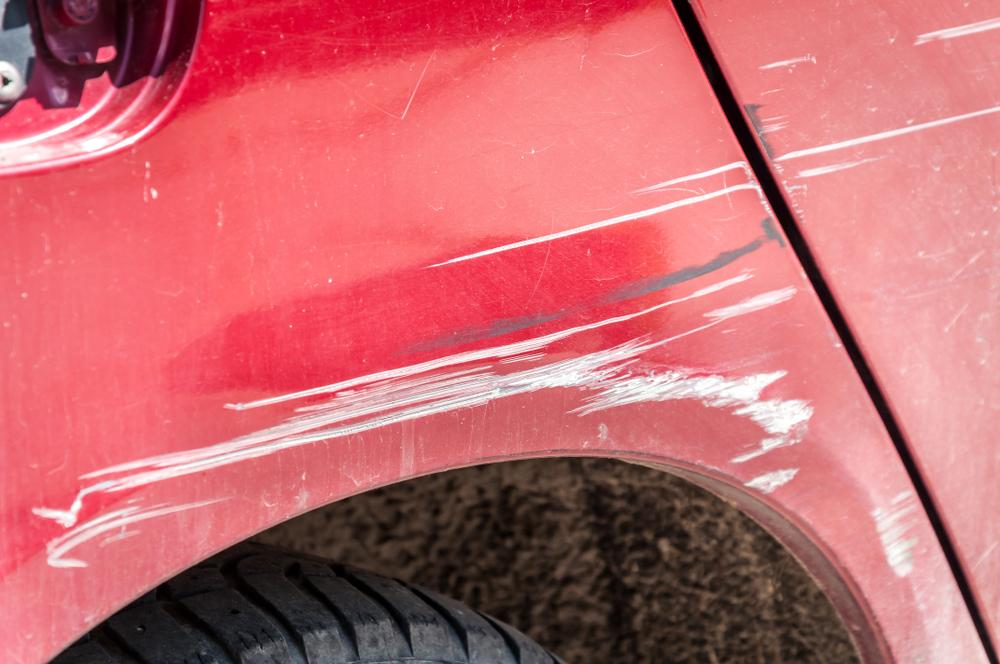scratch: (17, 151, 827, 585), (724, 5, 1000, 216), (871, 487, 921, 593)
